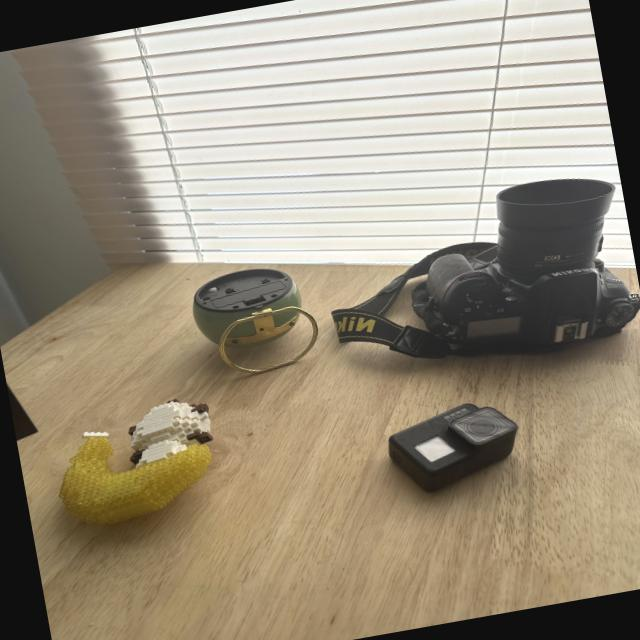actioncam: (369, 386, 532, 502)
camera: (304, 146, 640, 401)
clock: (164, 240, 335, 406)
toy: (24, 383, 250, 553)
